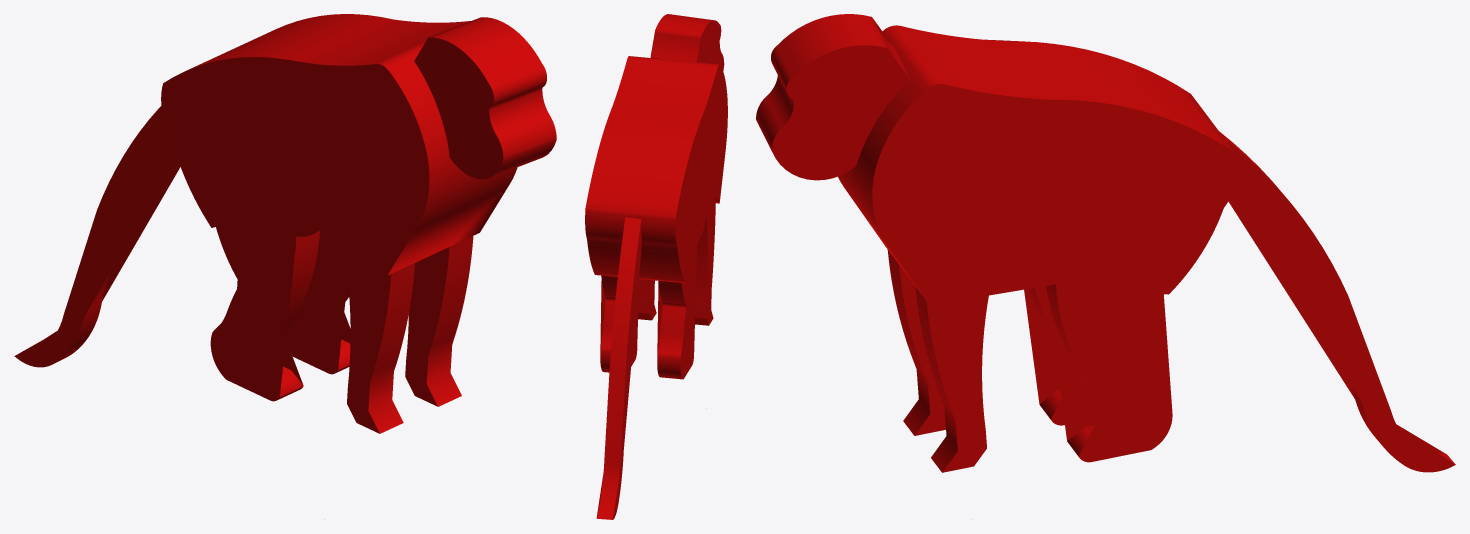
The model's file is bboat.obj.
3 renders of one model, left to right at view 1: azimuth 30°, elevation 25°; view 2: azimuth 150°, elevation 25°; view 3: azimuth 270°, elevation 25°, orthographic. The views are drawn at different scales.
Parts seen in each view (by area): view 1: Mesh7 Group1 Model, Mesh2 Group3 Group1 Model, Mesh4 Group5 Group1 Model, Mesh6 Group7 Group1 Model, Mesh5 Group6 Group1 Model, Mesh3 Group4 Group1 Model, Mesh1 Group2 Group1 Model; view 2: Mesh7 Group1 Model, Mesh6 Group7 Group1 Model, Mesh4 Group5 Group1 Model, Mesh2 Group3 Group1 Model, Mesh5 Group6 Group1 Model, Mesh1 Group2 Group1 Model, Mesh3 Group4 Group1 Model; view 3: Mesh7 Group1 Model, Mesh1 Group2 Group1 Model, Mesh2 Group3 Group1 Model, Mesh6 Group7 Group1 Model, Mesh3 Group4 Group1 Model, Mesh5 Group6 Group1 Model, Mesh4 Group5 Group1 Model.
Part boxes in pixels (box(x1,y1,x2,y2)): Mesh7 Group1 Model: box(161, 14, 517, 275); Mesh2 Group3 Group1 Model: box(414, 17, 556, 179); Mesh4 Group5 Group1 Model: box(210, 222, 319, 401); Mesh6 Group7 Group1 Model: box(14, 106, 180, 367); Mesh5 Group6 Group1 Model: box(343, 240, 414, 433); Mesh3 Group4 Group1 Model: box(405, 236, 473, 406); Mesh1 Group2 Group1 Model: box(286, 230, 350, 374); Mesh7 Group1 Model: box(585, 56, 727, 283); Mesh6 Group7 Group1 Model: box(596, 217, 641, 519); Mesh4 Group5 Group1 Model: box(657, 244, 697, 379); Mesh2 Group3 Group1 Model: box(650, 14, 724, 70); Mesh5 Group6 Group1 Model: box(695, 199, 715, 325); Mesh1 Group2 Group1 Model: box(600, 275, 638, 372); Mesh3 Group4 Group1 Model: box(638, 279, 656, 320); Mesh7 Group1 Model: box(838, 25, 1237, 305); Mesh1 Group2 Group1 Model: box(1046, 284, 1172, 462); Mesh2 Group3 Group1 Model: box(756, 14, 909, 180); Mesh6 Group7 Group1 Model: box(1219, 131, 1455, 472); Mesh3 Group4 Group1 Model: box(915, 286, 988, 472); Mesh5 Group6 Group1 Model: box(887, 250, 945, 435); Mesh4 Group5 Group1 Model: box(1024, 286, 1064, 425).
Bounding box in the file's own units: 368 × 759 × 897.
